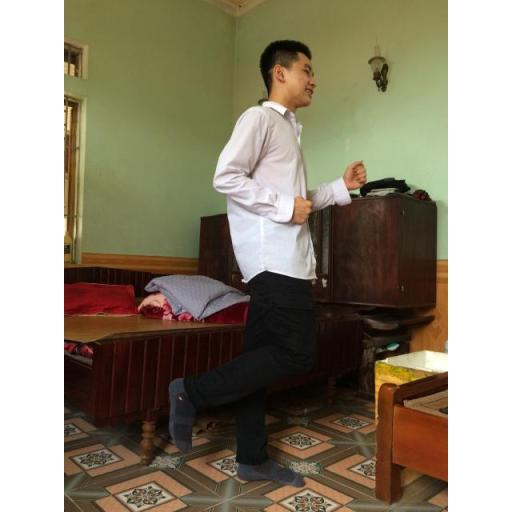Running: (158, 27, 372, 487)
